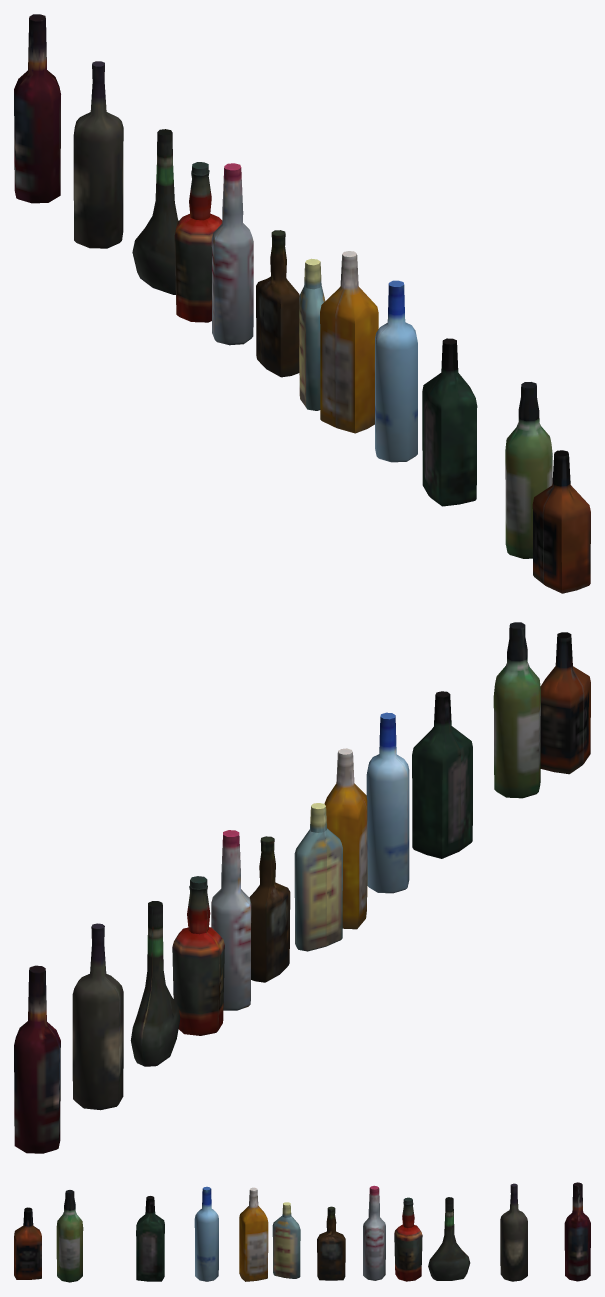
Rendered from bottles_shelf.glb.
3 renders of one model, top to bottom at view 1: azimuth 30°, elevation 25°; view 2: azimuth 150°, elevation 25°; view 3: azimuth 270°, elevation 25°, orthographic. The views are drawn at different scales.
Parts seen in each view (by area): view 1: bottles_shelf; view 2: bottles_shelf; view 3: bottles_shelf.
Part boxes in pixels (<box>): bottles_shelf: <box>14,14,590,593</box>; bottles_shelf: <box>14,622,590,1153</box>; bottles_shelf: <box>14,1182,590,1282</box>.
Bounding box in the file's own units: 0.0762 × 0.2607 × 1.48.
1 material, 1 textured.
